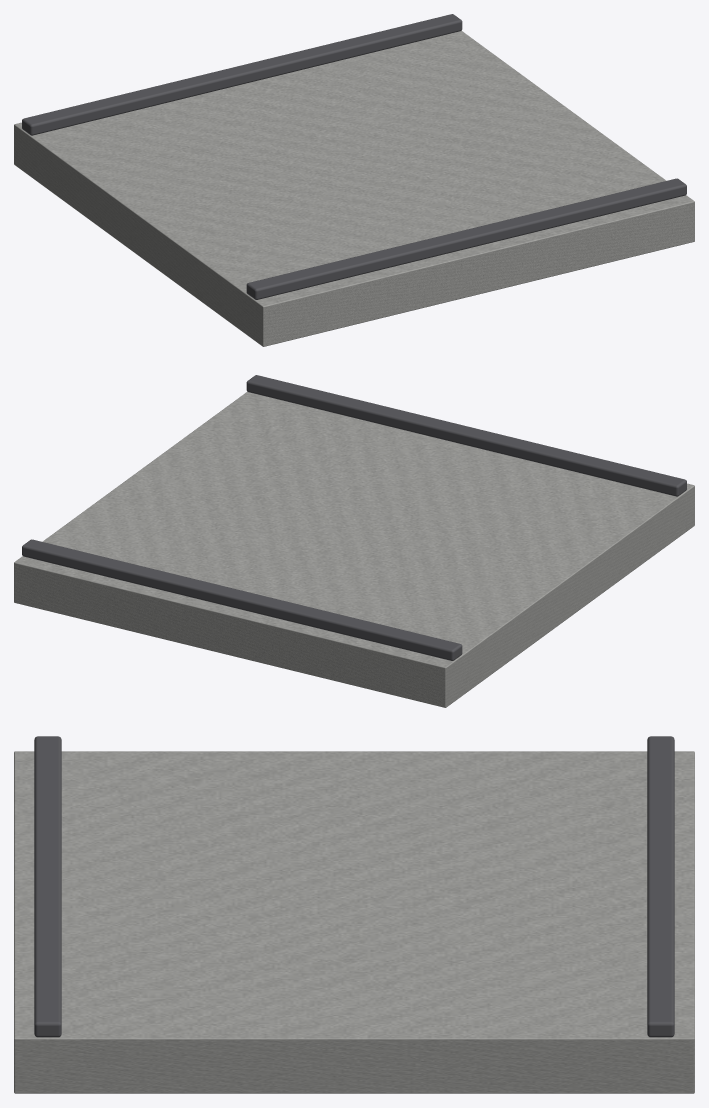
The model's file is paranormal-investigation-house-basement-floor-eeee118d__26711.glb.
The picture shows the model from 3 angles, top to bottom: view 1: azimuth 30°, elevation 25°; view 2: azimuth 150°, elevation 25°; view 3: azimuth 270°, elevation 25°; orthographic projection. The views are drawn at different scales.
Visible parts, largest first — view 1: basement-floor; view 2: basement-floor; view 3: basement-floor.
Boxes of the visible parts, left/top/right/bottom form: basement-floor: left=14, top=14, right=694, bottom=346; basement-floor: left=14, top=375, right=694, bottom=707; basement-floor: left=14, top=736, right=694, bottom=1093.
Size of the model in its own units: 2 by 0.23 by 2.
Materials: 2 (1 with a texture image).
